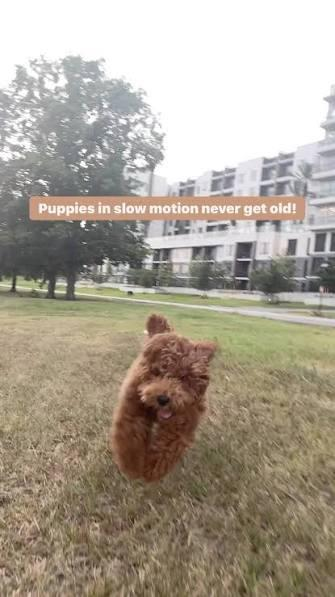puppy-dog: (110, 313, 219, 485)
